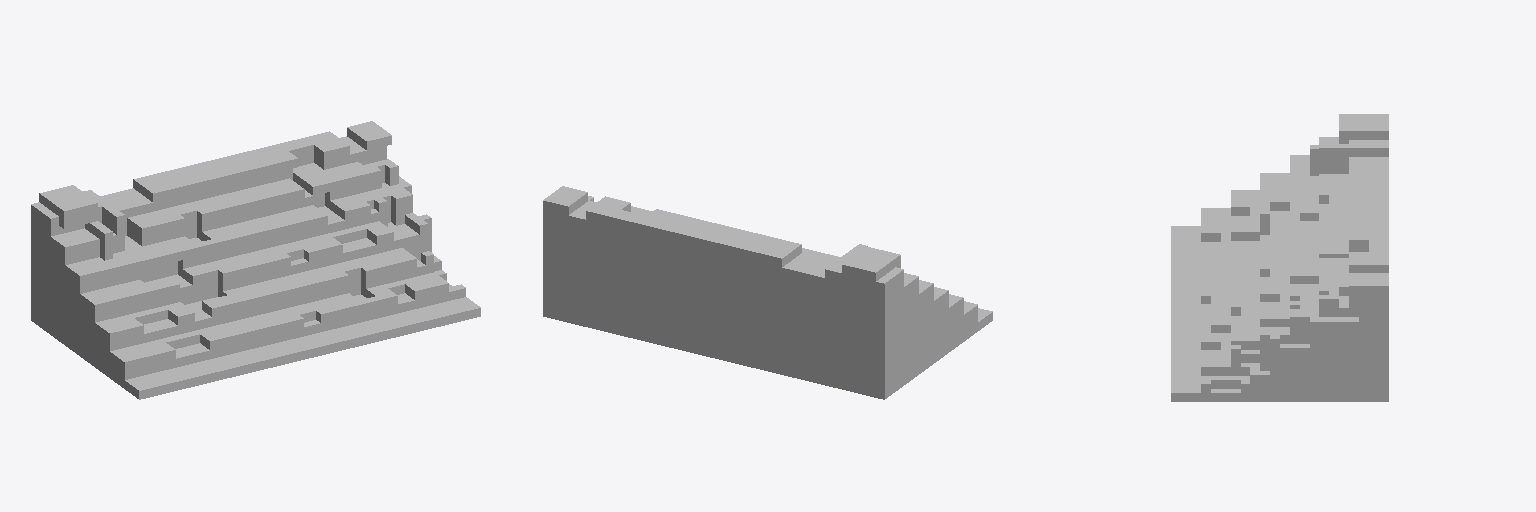
Rendered from stairs1.obj.
3 renders of one model, left to right at view 1: azimuth 30°, elevation 25°; view 2: azimuth 150°, elevation 25°; view 3: azimuth 270°, elevation 25°, orthographic.
Visible parts, largest first — view 1: stairs1; view 2: stairs1; view 3: stairs1.
Boxes of the visible parts, box(x1,y1,x2,y2) form: stairs1: box(31, 121, 480, 399); stairs1: box(543, 186, 992, 399); stairs1: box(1171, 114, 1388, 401).
Bounding box in the file's own units: 40 × 14 × 22.